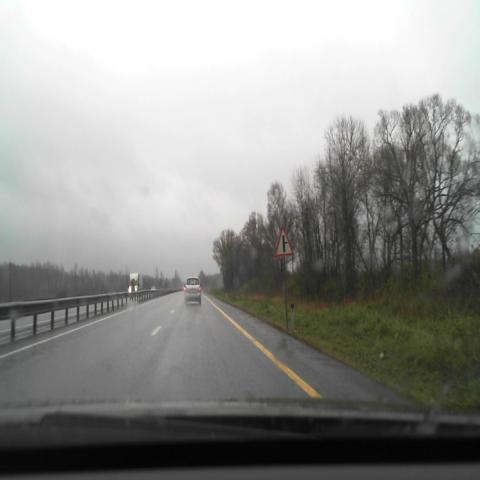2_3_2: (274, 226, 294, 258)
